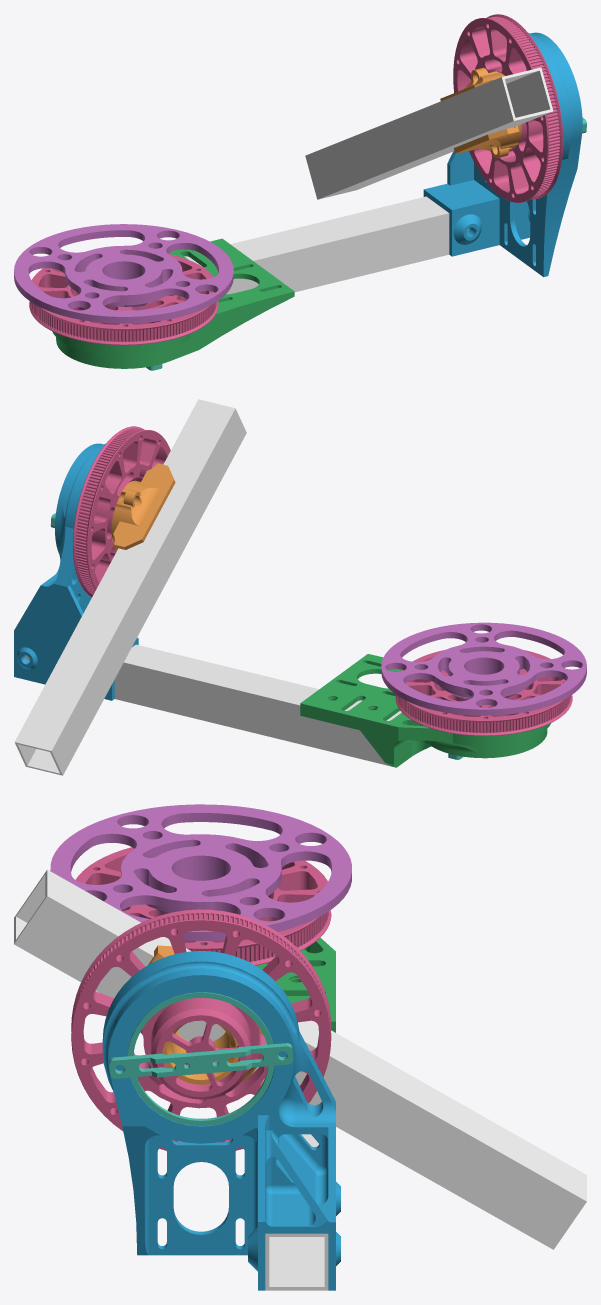
Rendered from Orbiter.obj.
3 renders of one model, top to bottom at view 1: azimuth 30°, elevation 25°; view 2: azimuth 150°, elevation 25°; view 3: azimuth 270°, elevation 25°, orthographic. The views are drawn at different scales.
Visible parts, largest first — view 1: BasePlatformInsert.001, OrbitArm.001, MainRail.001, OrbitMount.001, BasePulley.003, BaseMount.001, BasePulley.001, OrbitBarInsert.001; view 2: OrbitArm.001, MainRail.001, BasePlatformInsert.001, BaseMount.001, OrbitMount.001, BasePulley.003, BasePulley.001, OrbitBarInsert.001; view 3: OrbitMount.001, OrbitArm.001, BasePlatformInsert.001, BasePulley.003, BaseSensor.003, BasePulley.001, MainRail.001, BaseMount.001, OrbitBarInsert.001.
Boxes of the visible parts, <box> form: BasePlatformInsert.001: <box>14,224,233,323</box>; OrbitArm.001: <box>305,67,553,199</box>; MainRail.001: <box>184,196,468,294</box>; OrbitMount.001: <box>423,32,582,277</box>; BasePulley.003: <box>453,14,563,202</box>; BaseMount.001: <box>52,238,294,368</box>; BasePulley.001: <box>29,253,218,345</box>; OrbitBarInsert.001: <box>440,67,522,158</box>; OrbitArm.001: <box>14,399,246,775</box>; MainRail.001: <box>25,644,401,766</box>; BasePlatformInsert.001: <box>381,622,586,715</box>; BaseMount.001: <box>300,654,550,767</box>; OrbitMount.001: <box>14,443,138,700</box>; BasePulley.003: <box>73,426,170,596</box>; BasePulley.001: <box>395,650,572,735</box>; OrbitBarInsert.001: <box>111,463,175,552</box>; OrbitMount.001: <box>102,951,340,1290</box>; OrbitArm.001: <box>14,869,586,1249</box>; BasePlatformInsert.001: <box>50,804,351,940</box>; BasePulley.003: <box>71,909,331,1150</box>; BaseSensor.003: <box>109,992,293,1125</box>; BasePulley.001: <box>76,847,331,965</box>; MainRail.001: <box>265,1134,328,1290</box>; BaseMount.001: <box>256,937,335,1032</box>; OrbitBarInsert.001: <box>148,945,263,1084</box>.
Size of the model in its own units: 0.3459 by 0.1552 by 0.2278.
